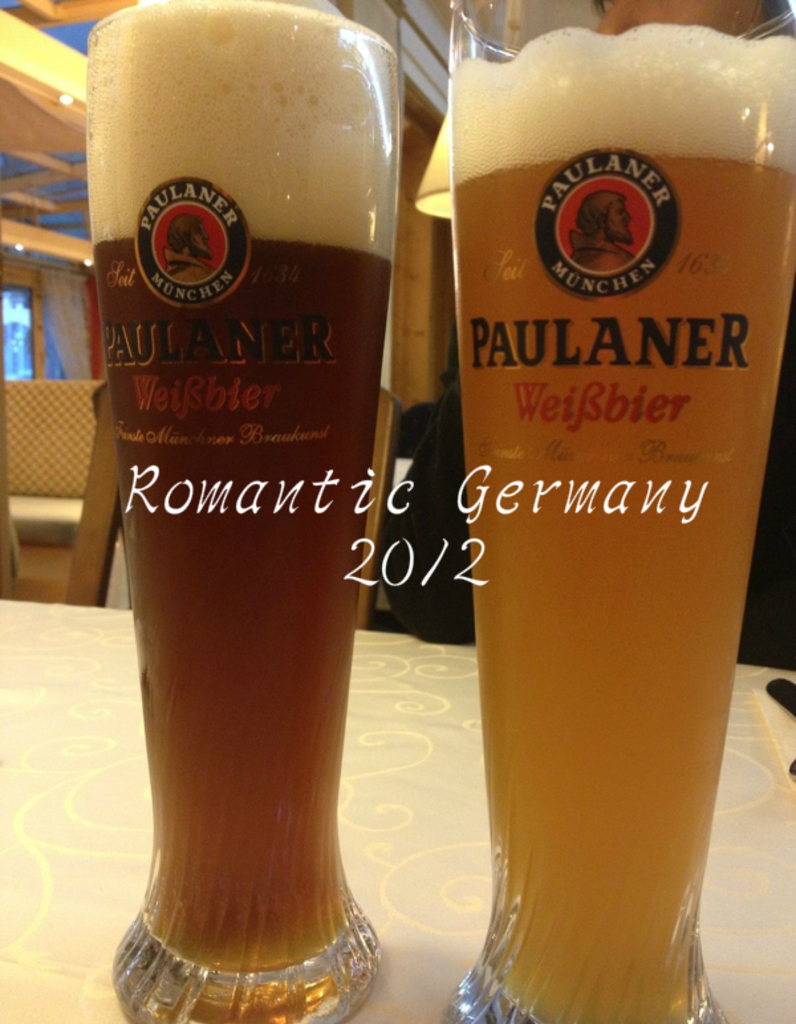Beer: (448, 0, 795, 1024), (82, 0, 397, 1023)
